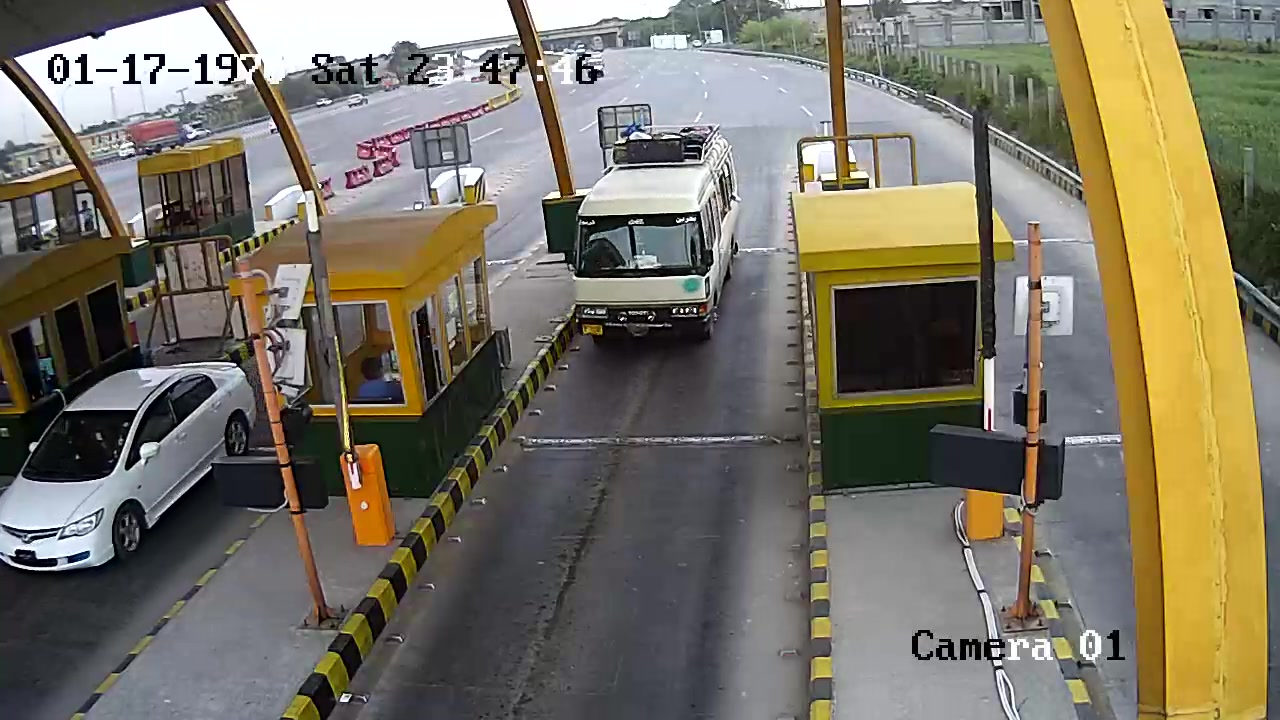F3: (579, 118, 740, 341)
